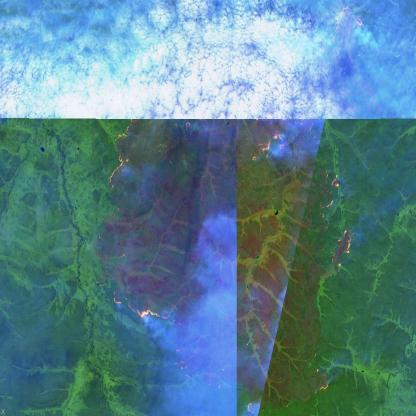fire: (104, 277, 185, 334), (102, 110, 143, 206), (318, 180, 350, 278), (242, 114, 290, 172), (302, 355, 332, 401)
